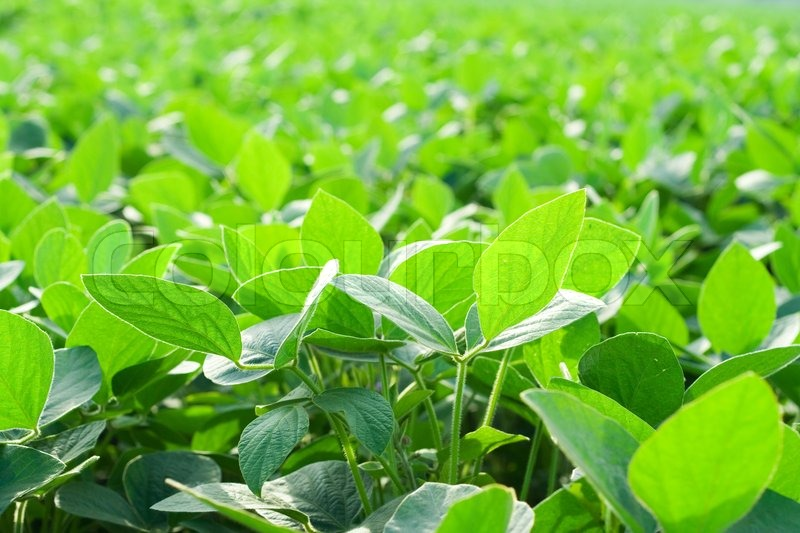soyabean: (2, 165, 789, 518)
